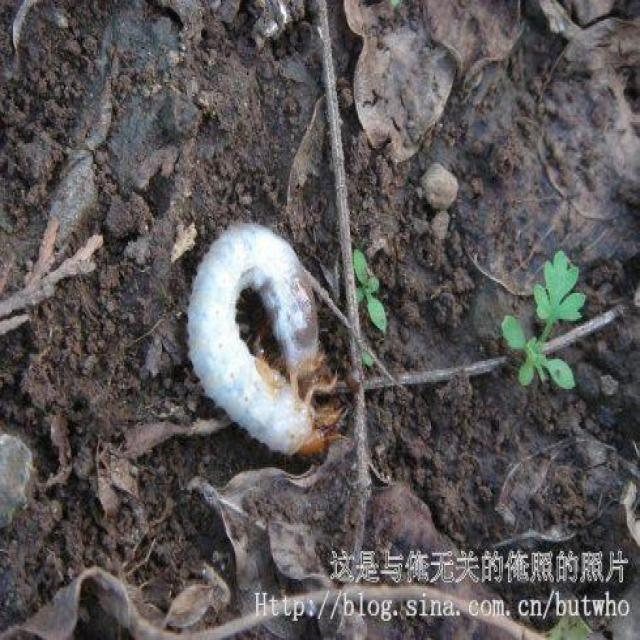grub: (182, 195, 335, 463)
